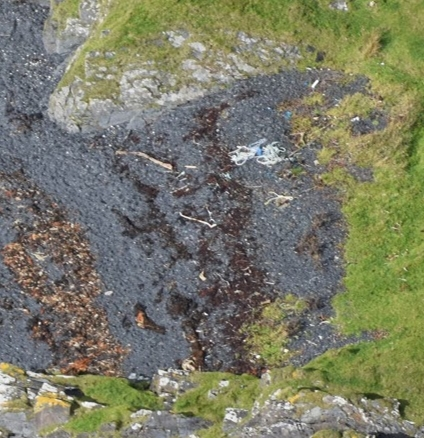net: (223, 134, 290, 172)
